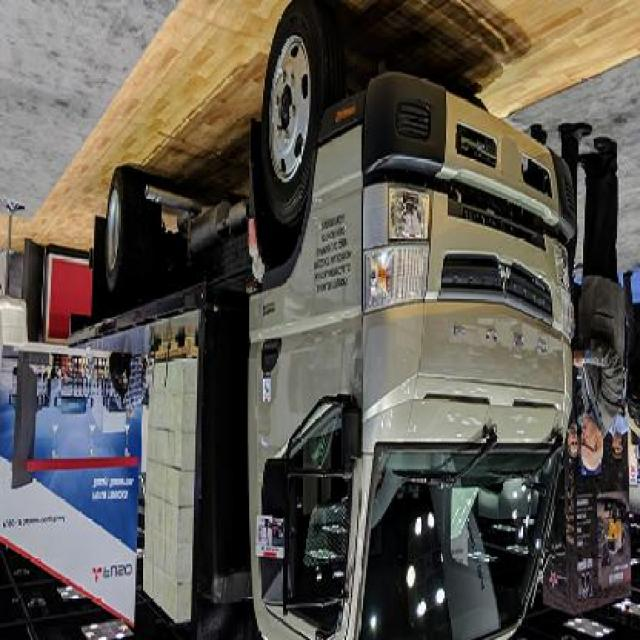truck: (67, 4, 580, 640)
